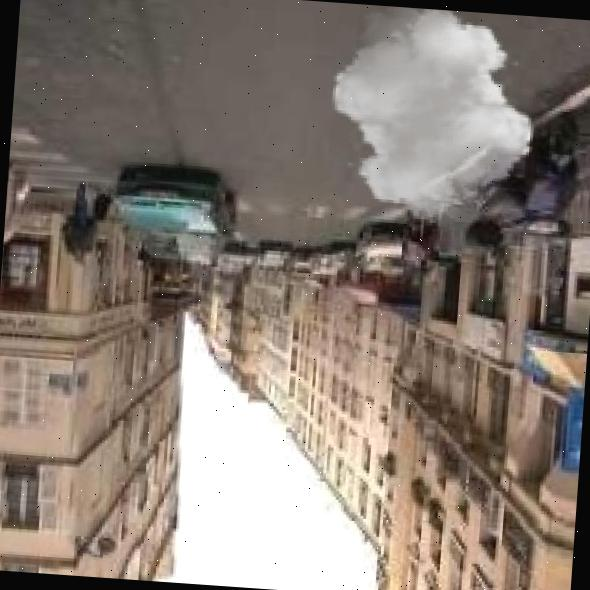smoke: (314, 2, 549, 233)
